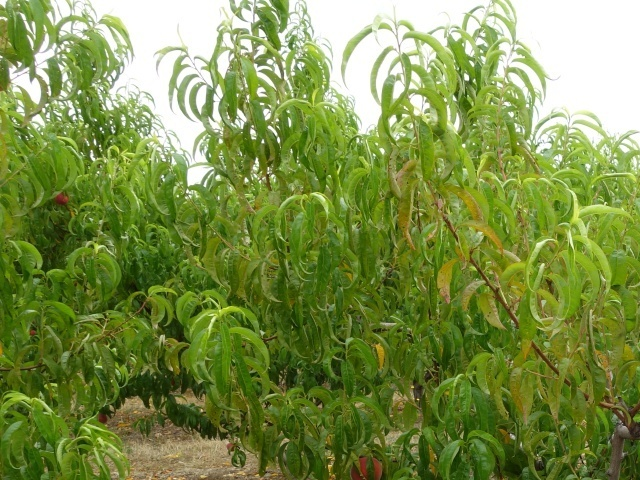peach: (346, 453, 388, 480), (50, 188, 72, 209)
